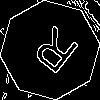R: (25, 25, 81, 83)
